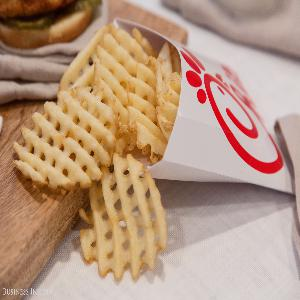fries: (16, 30, 174, 186)
